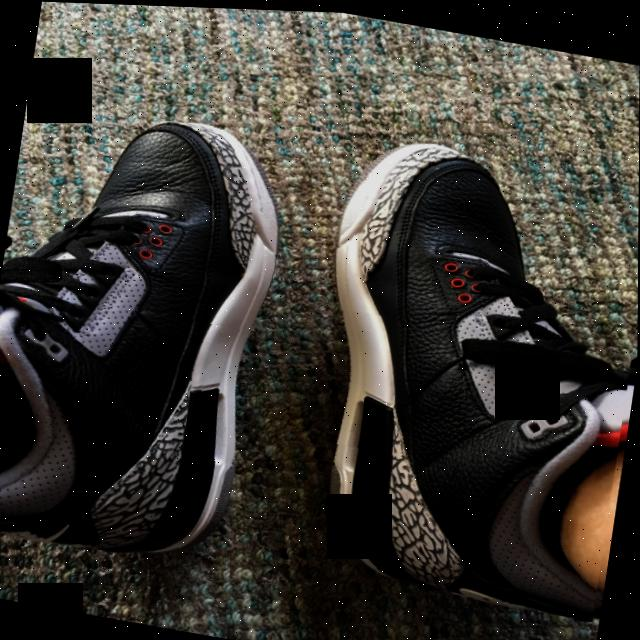shoe: (267, 98, 639, 640), (0, 84, 297, 583)
